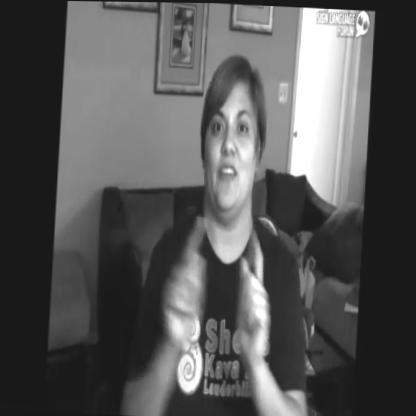NiceToMeetYou: (162, 203, 282, 374)
